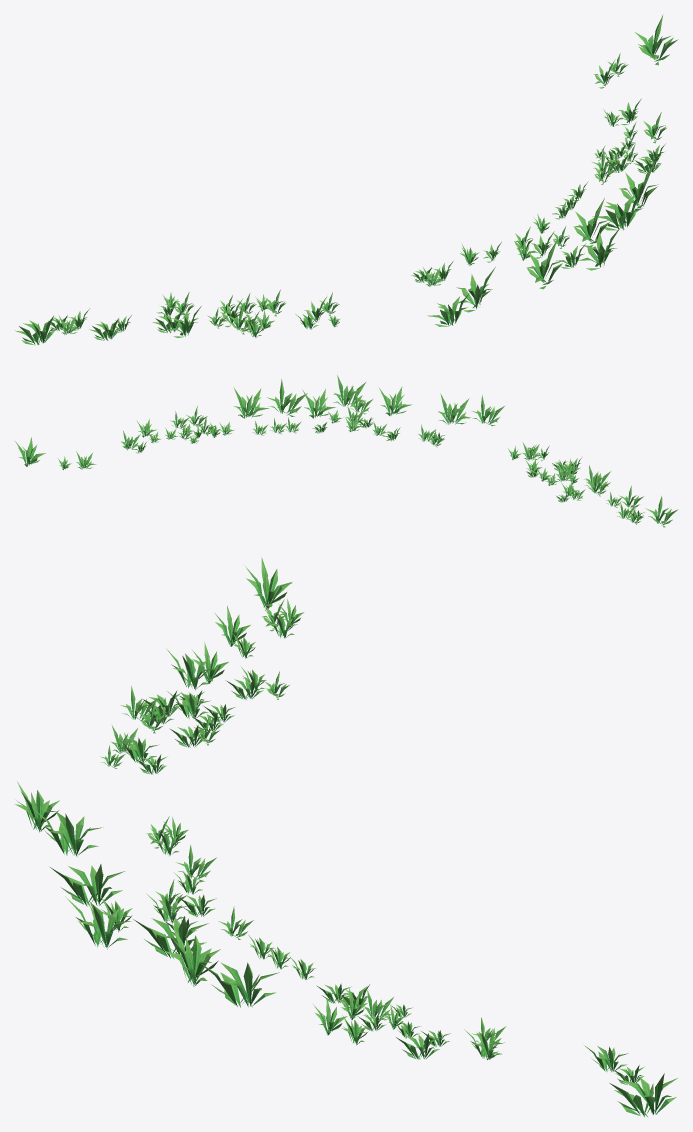
File: area_01_10.fbx
3 views of the same model, one above another, from view 1: azimuth 30°, elevation 25°; view 2: azimuth 150°, elevation 25°; view 3: azimuth 270°, elevation 25° (orthographic). The views are drawn at different scales.
Visible parts, largest first — view 1: area_01_10; view 2: area_01_10; view 3: area_01_10.
Part boxes in pixels (x1,y1,x2,y2): area_01_10: (15, 14, 678, 345); area_01_10: (14, 375, 678, 527); area_01_10: (14, 557, 677, 1116).
Size of the model in its own units: 41.43 by 2.06 by 21.79.
